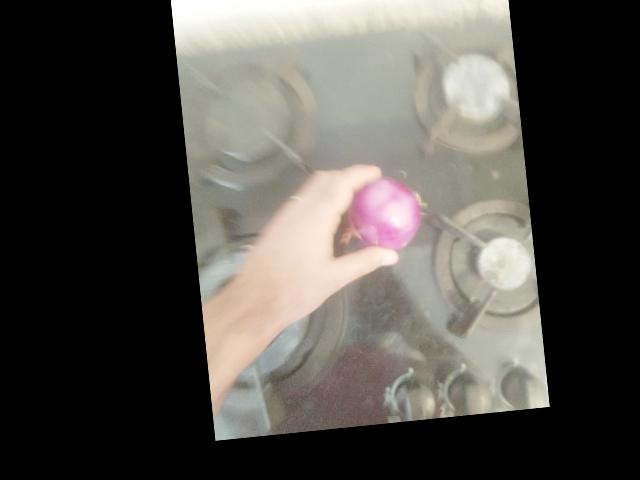onion: (383, 78, 451, 151)
